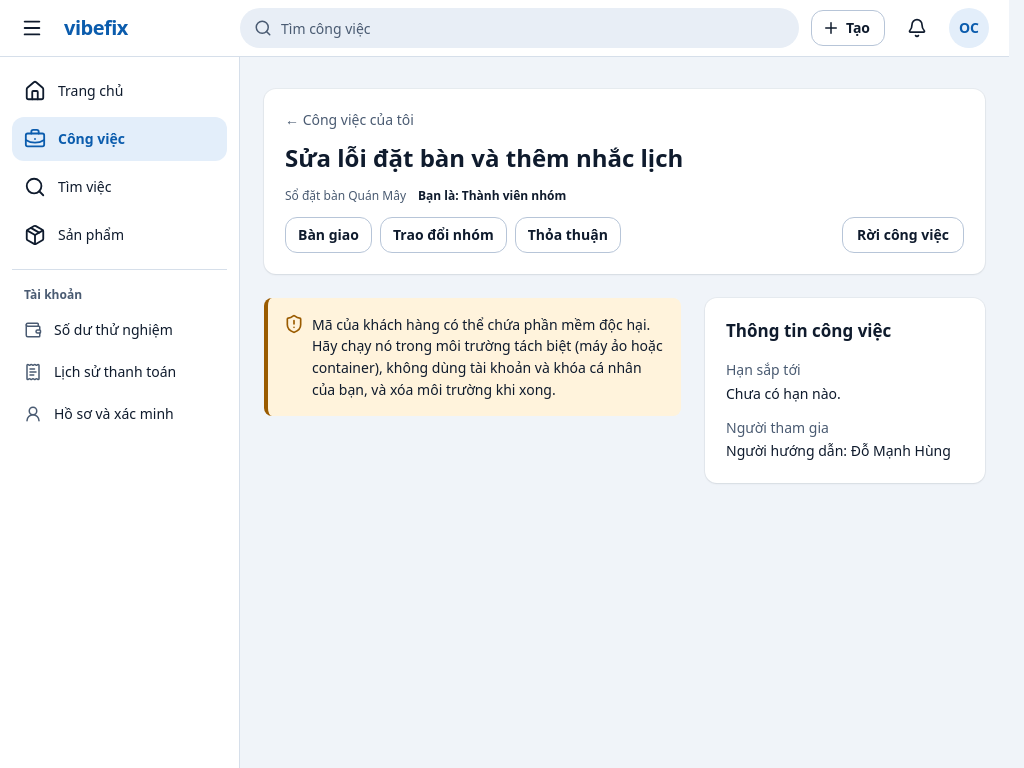
JOB-1 for a Crew member (FR-77, UX-DR104) › leaves with N-28 and the reason, which it marks as the Mentor's alone
Click the button "Rời công việc" at (903, 235), box [842,217,964,253]
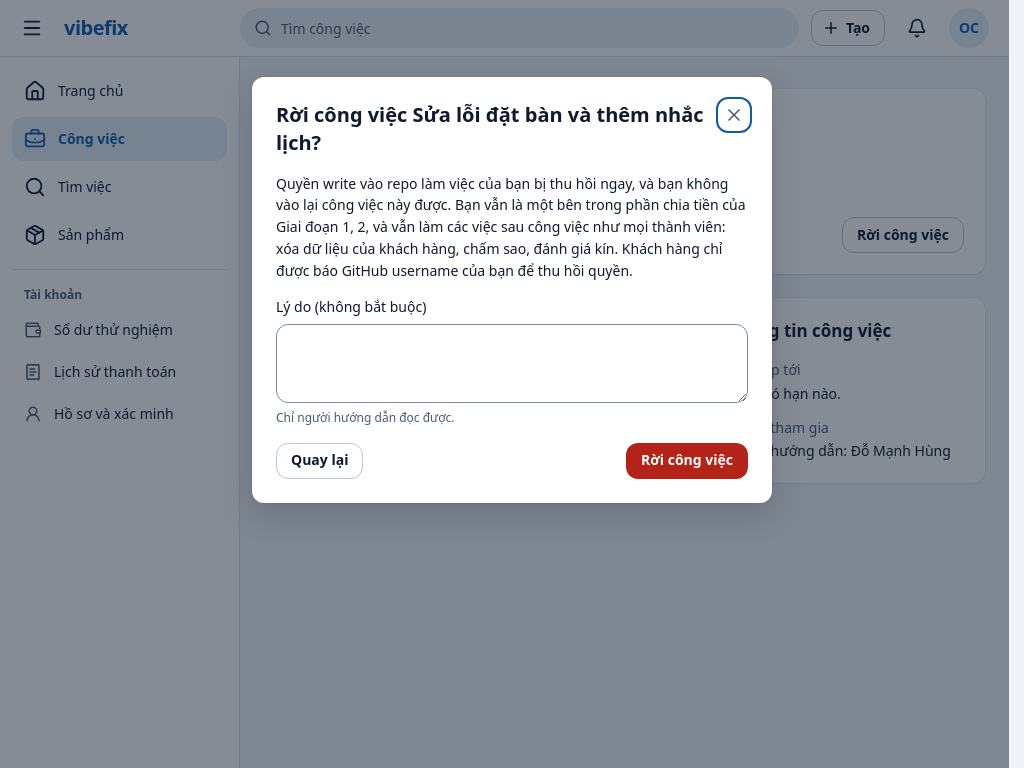
Type "Mình đi thực tập" into the text box labelled "Lý do (không bắt buộc)" at (512, 363), box [276,324,748,403]
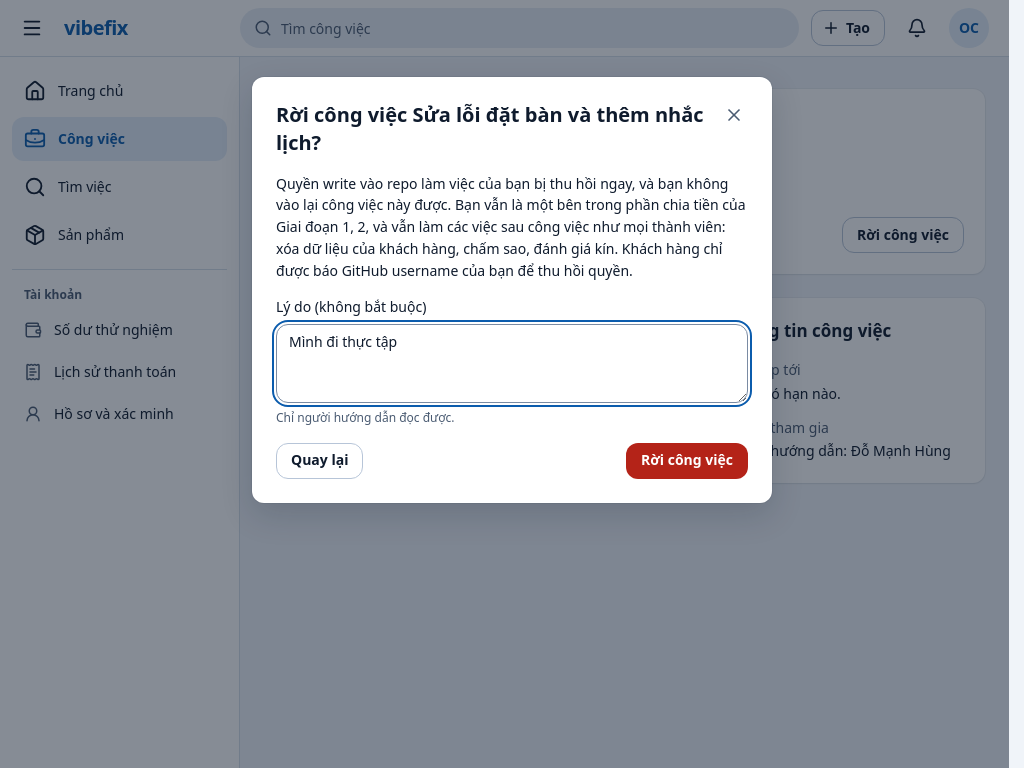
Click the button "Rời công việc" at (687, 461), box [626,443,748,479]
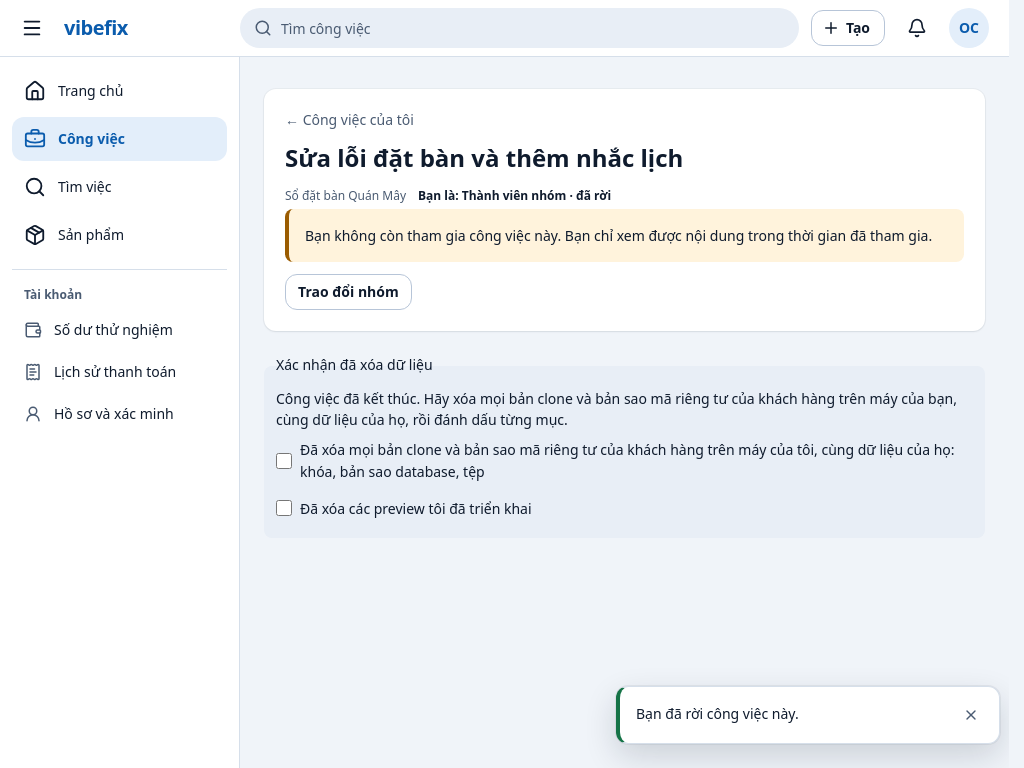
Now the heading "Bạn đã rời công việc này." is shown, box [636,704,799,723]
Now the text "Bạn là: Thành viên nhóm · đã rời" is shown, box [418,187,611,205]
Now the text "Bạn không còn tham gia công việc này. Bạn chỉ xem được nội dung trong thời gian đã tham gia." is shown, box [305,226,932,245]
